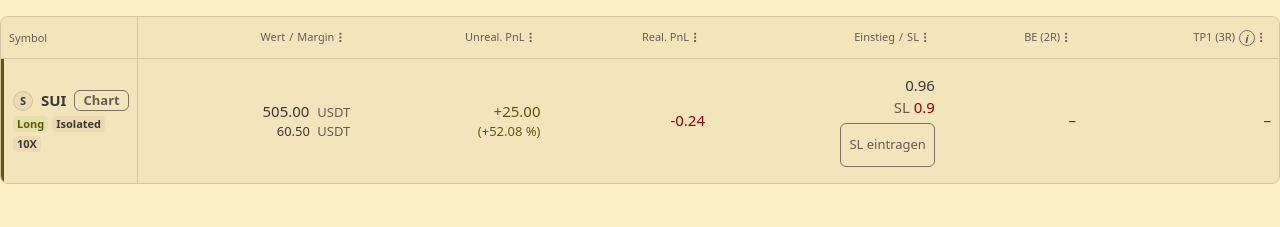
Test: Ursprünglichen SL eintragen: Eingabe › LONG: ungültige Eingabe "{"positionId":"9100000000000000001","symbol":"SUI-USDT","side":"LONG","isolated":true,"positionAmount":"500","avgOpenPrice":"0.9600","m
Click the button "SL eintragen".
click(888, 144)  # box [840,122,935,166]
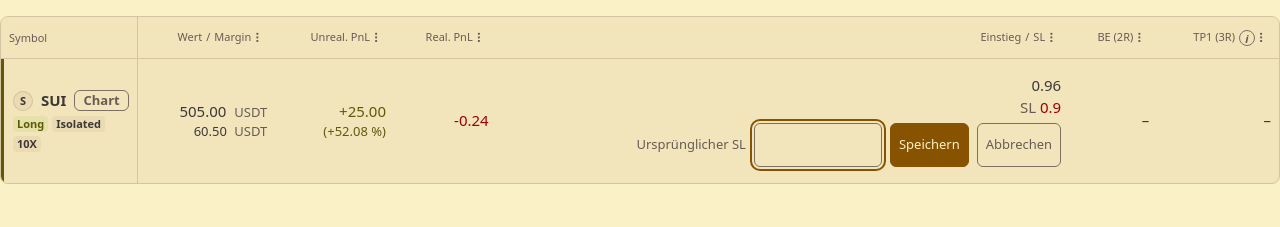
Type "abc" into the field labelled "Ursprünglicher SL".
click(818, 144); type("abc")  # box [754,122,882,166]
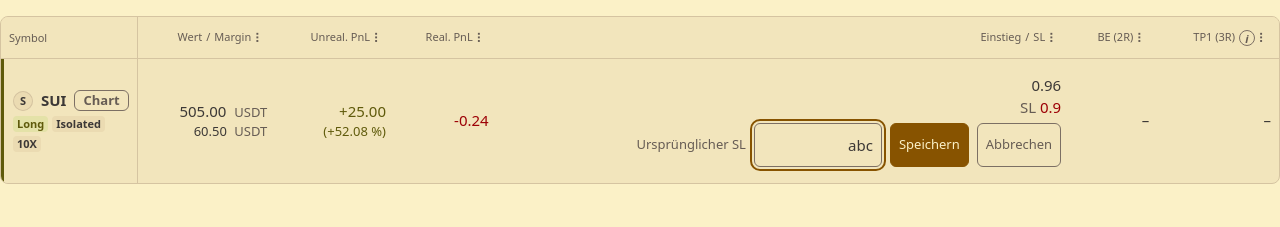
Click the button "Speichern".
click(929, 144)  # box [890,122,969,166]
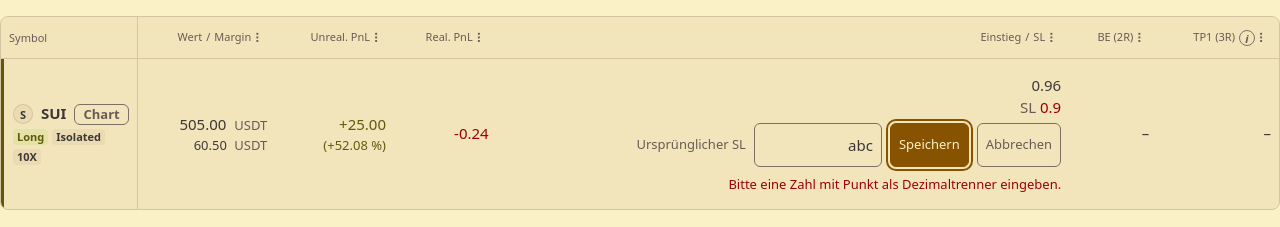
Now the message shows "Zahl", box [728,174,1061,192]
